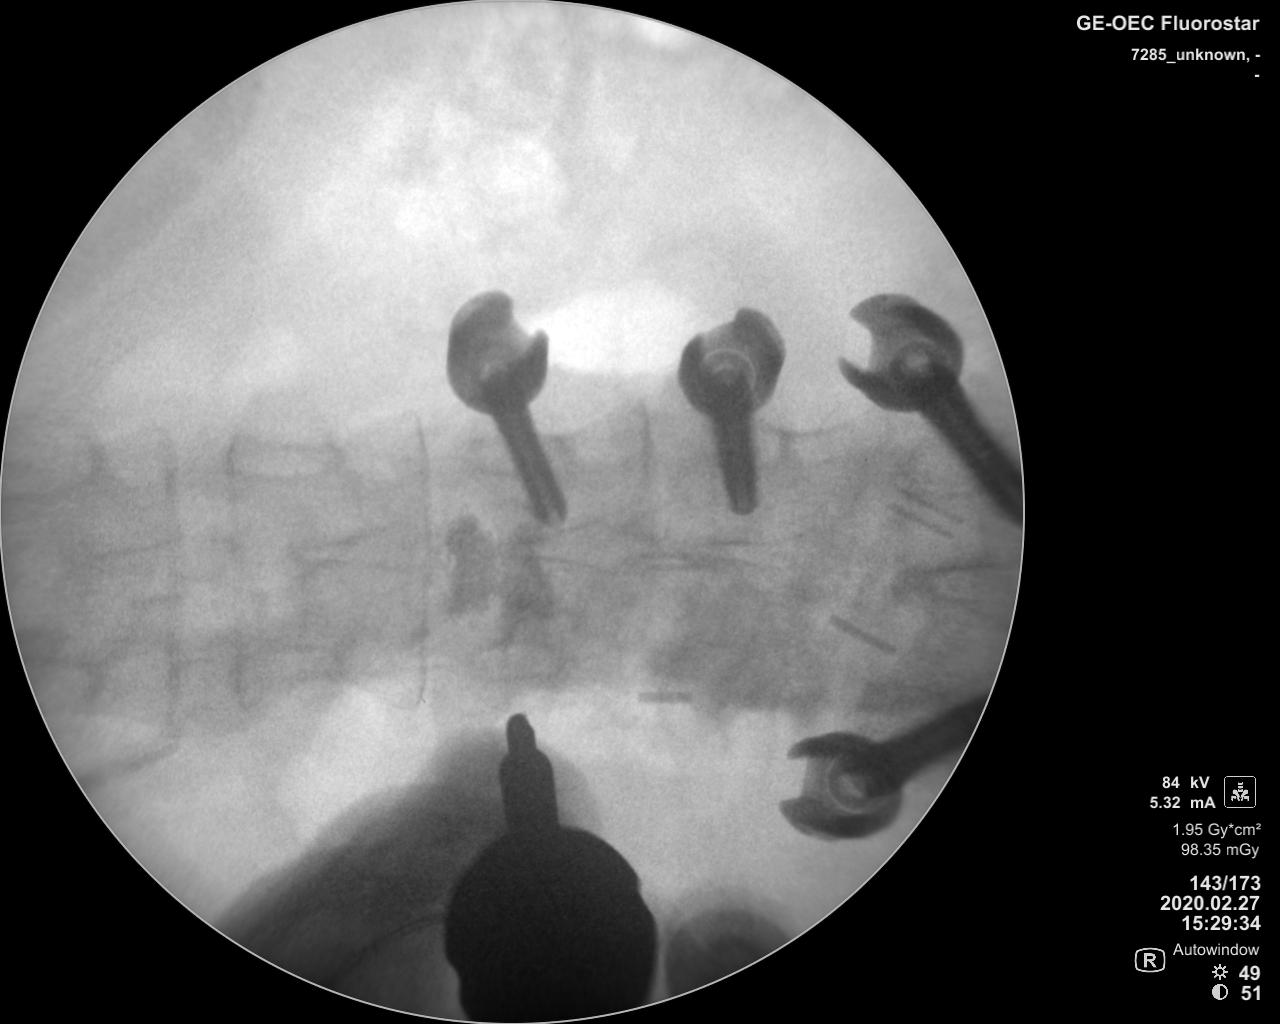eyes: (9, 424, 98, 495), (225, 434, 340, 479), (469, 639, 563, 686), (234, 646, 338, 686), (25, 656, 99, 707)
line: (146, 426, 183, 745), (405, 412, 433, 724)
nose: (280, 519, 443, 575), (82, 530, 243, 582), (492, 521, 654, 574)
